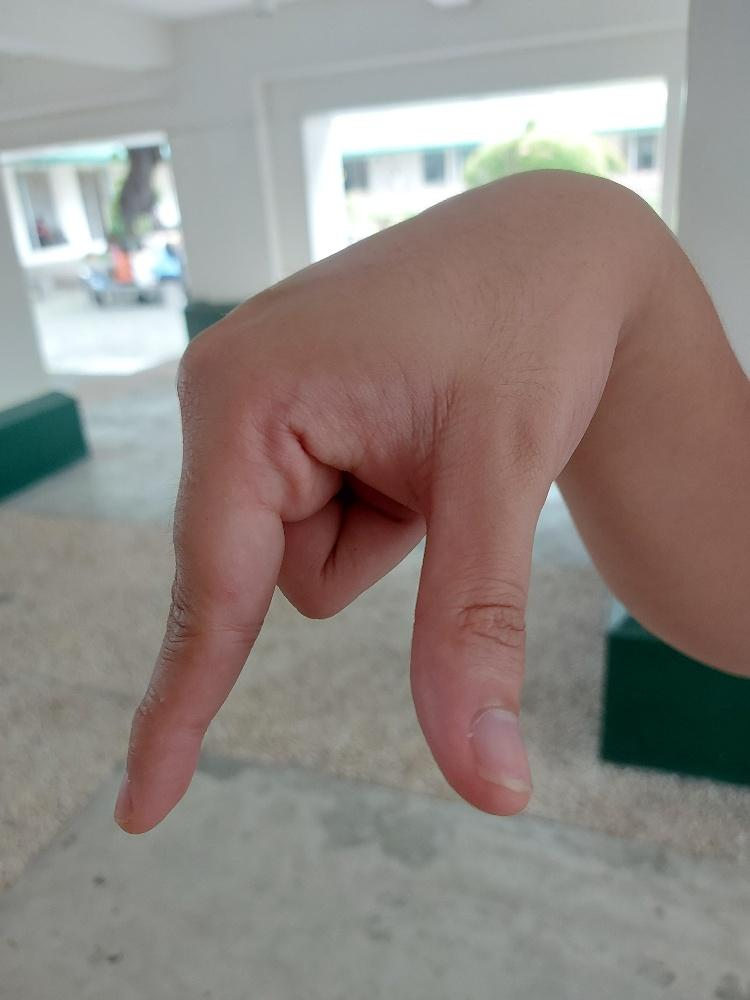q: (109, 167, 622, 838)
